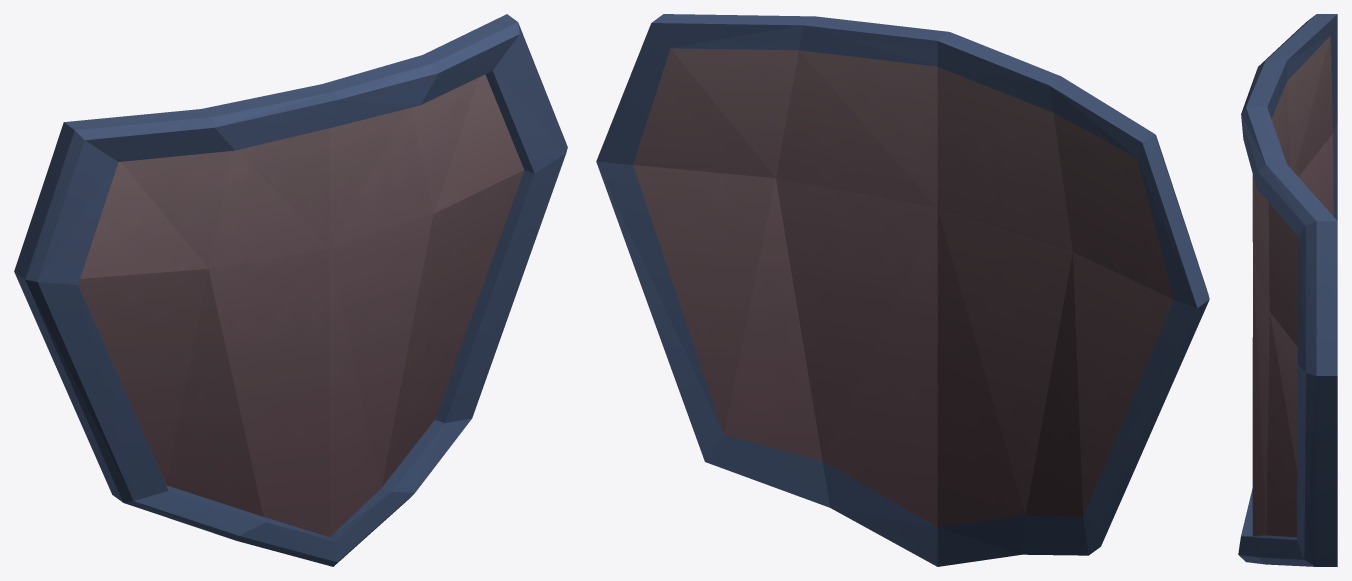
File: shield.fbx
3 renders of one model, left to right at view 1: azimuth 30°, elevation 25°; view 2: azimuth 150°, elevation 25°; view 3: azimuth 270°, elevation 25°, orthographic. The views are drawn at different scales.
Visible parts, largest first — view 1: Shield; view 2: Shield; view 3: Shield.
Boxes of the visible parts, <box> form: Shield: <box>14,14,567,566</box>; Shield: <box>596,14,1209,566</box>; Shield: <box>1238,14,1337,566</box>.
Bounding box in the file's own units: 245 × 205 × 40.6.
1 material, 1 textured.
